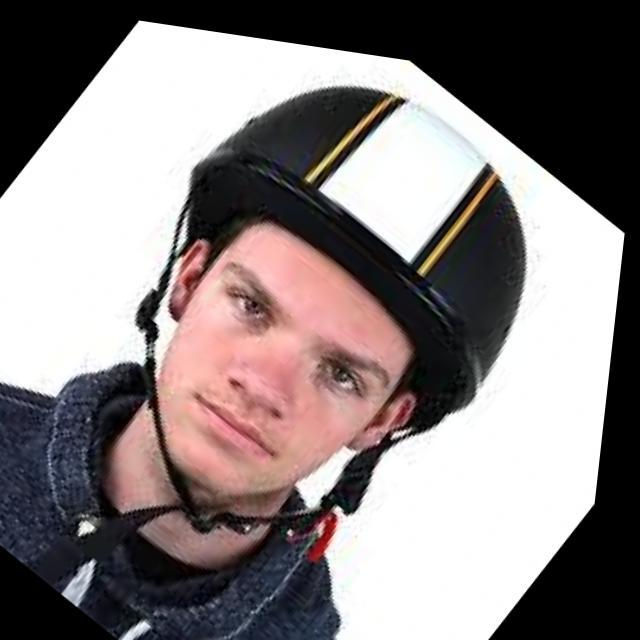Helmet: (127, 80, 530, 517)
